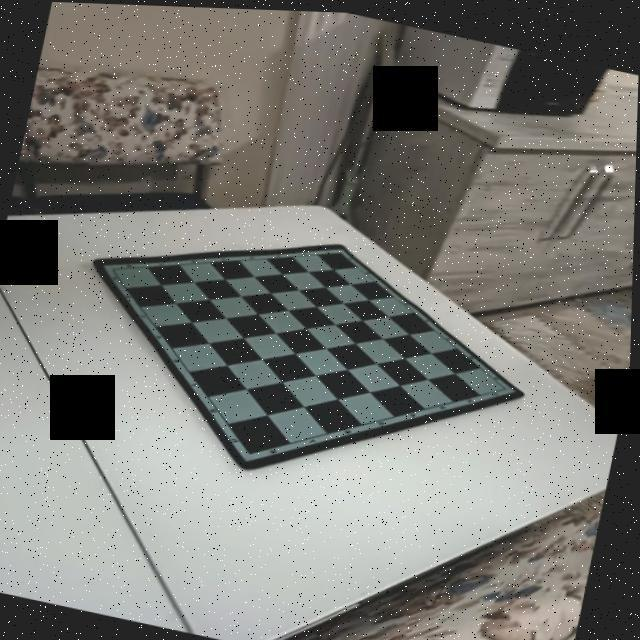chess-table-corners: (494, 374, 518, 396), (105, 259, 126, 279), (242, 441, 264, 460), (332, 242, 352, 258)
